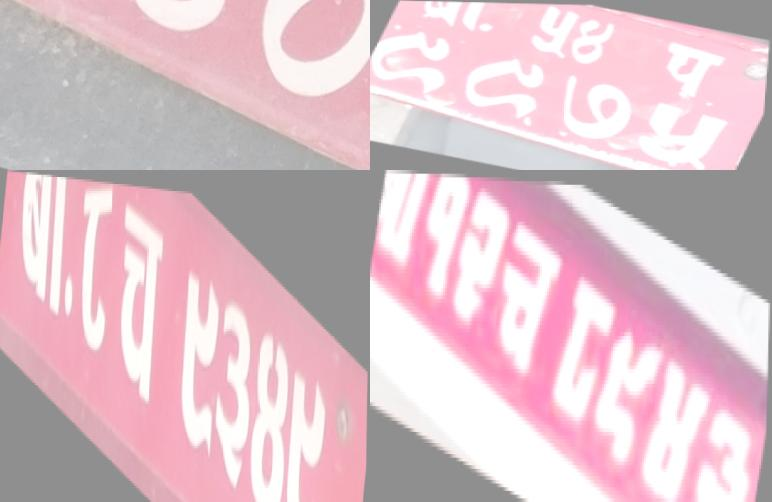0: (235, 0, 370, 115)
1: (417, 173, 469, 297)
2: (449, 179, 507, 333)
3: (208, 269, 262, 500), (687, 388, 755, 502)
4: (241, 294, 298, 502), (639, 346, 706, 502), (101, 0, 281, 56), (559, 14, 625, 71)
5: (629, 96, 742, 170), (515, 3, 585, 60)
7: (540, 71, 652, 148)
8: (66, 176, 122, 380), (550, 264, 613, 422)
9: (171, 236, 228, 472), (592, 305, 662, 468), (278, 332, 337, 502), (446, 49, 563, 128), (370, 24, 470, 102)
ba: (6, 171, 76, 336), (374, 170, 436, 270), (406, 1, 504, 34)
cha: (104, 180, 172, 448), (488, 209, 562, 378)
pa: (642, 36, 733, 101)
